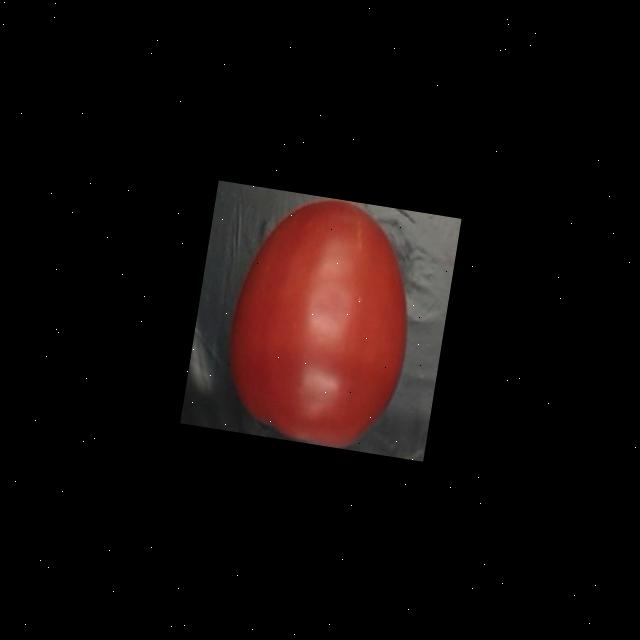tomato: (212, 184, 433, 456)
